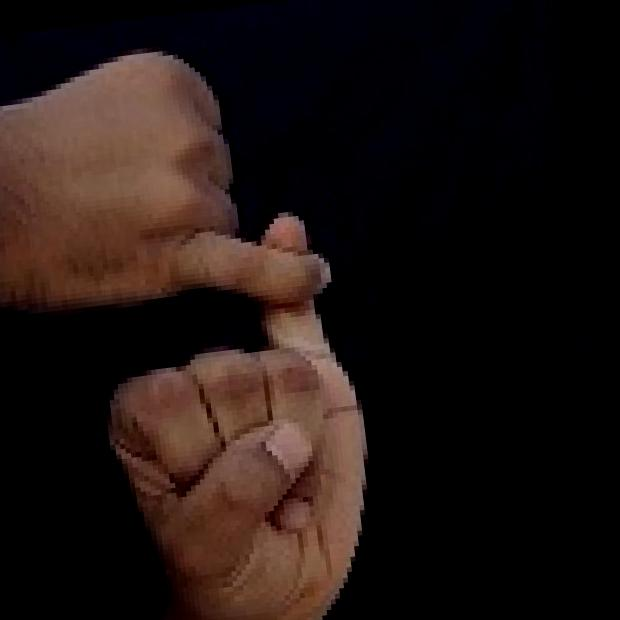R: (0, 14, 402, 620)
